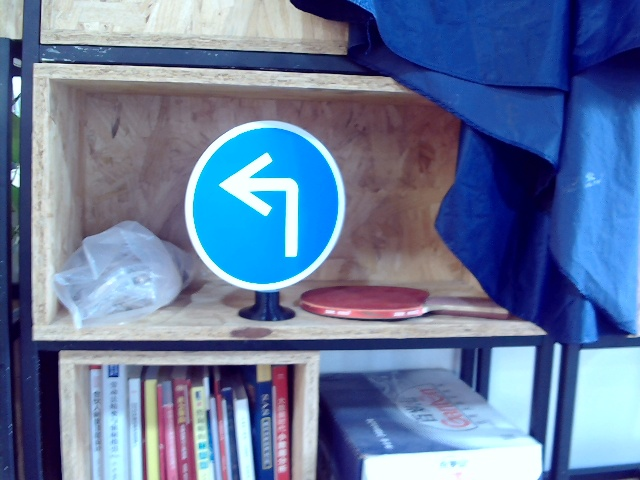turn_left: (217, 152, 307, 256)
